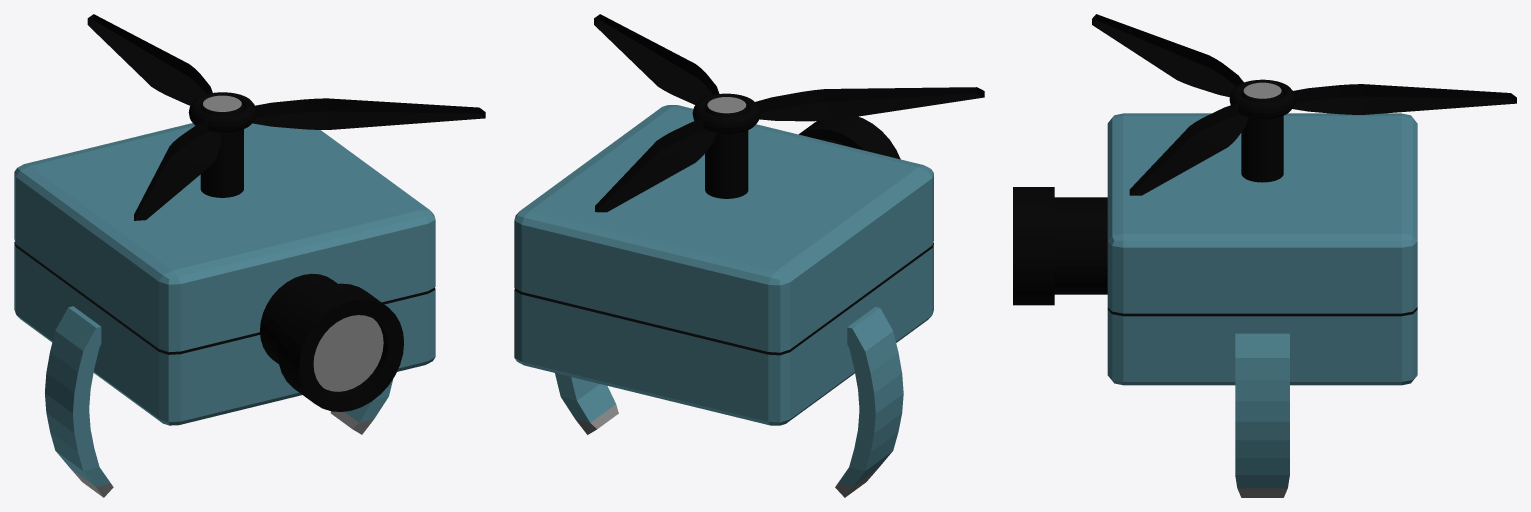
File: SZ4_Drone.fbx
3 renders of one model, left to right at view 1: azimuth 30°, elevation 25°; view 2: azimuth 150°, elevation 25°; view 3: azimuth 270°, elevation 25°, orthographic. The views are drawn at different scales.
Visible parts, largest first — view 1: Drone, Helice; view 2: Drone, Helice; view 3: Drone, Helice.
Boxes of the visible parts, x1,y1,x2,y2 form: Drone: (14, 95, 435, 497); Helice: (87, 14, 485, 220); Drone: (514, 97, 933, 497); Helice: (594, 14, 984, 212); Drone: (1013, 82, 1417, 497); Helice: (1092, 14, 1516, 195).
Bounding box in the file's own units: 176 × 162 × 213.
